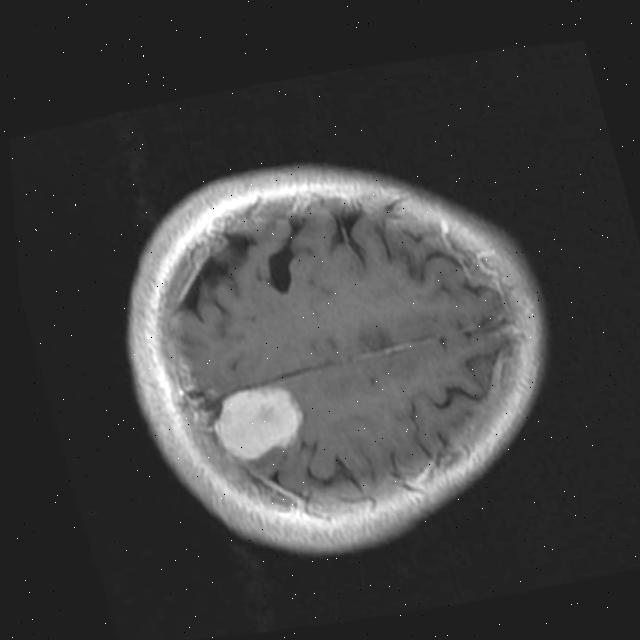Meningioma: (202, 376, 313, 472)
